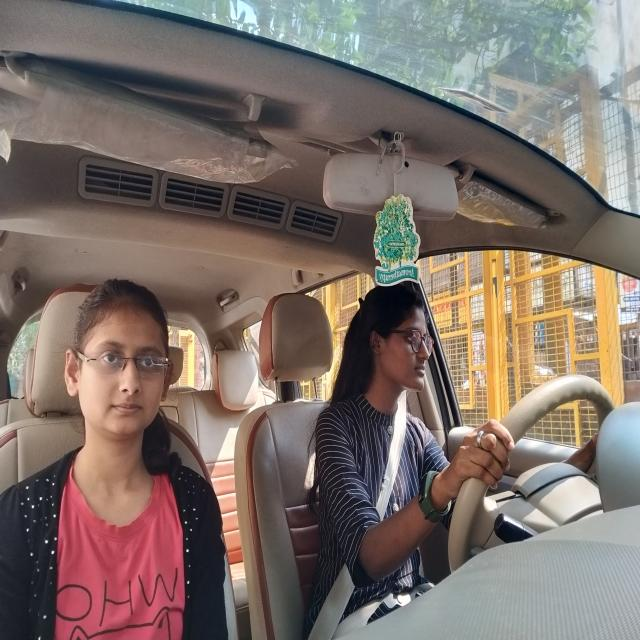LeftRight: (349, 290, 441, 394)
person: (70, 281, 174, 435)
